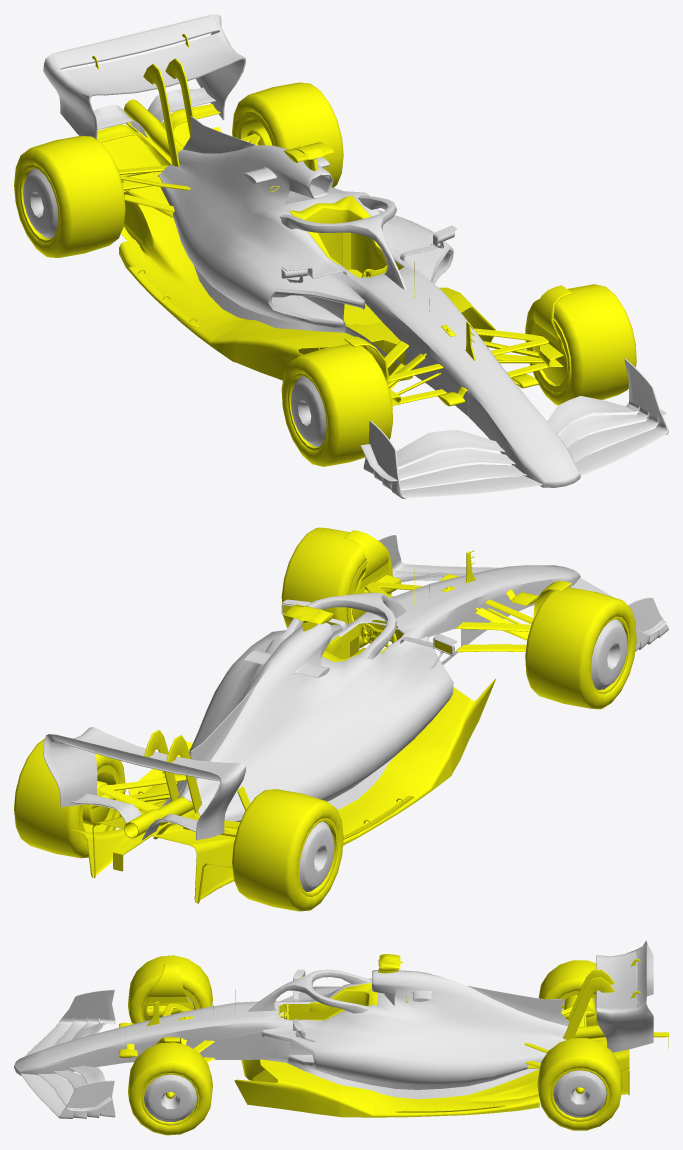
File: F1PS_F1_Car_V11.glb
The picture shows the model from 3 angles, top to bottom: view 1: azimuth 30°, elevation 25°; view 2: azimuth 150°, elevation 25°; view 3: azimuth 270°, elevation 25°; orthographic projection. The views are drawn at different scales.
Visible parts, largest first — view 1: F1PS_F1_Car_Customizable, F1PS_F1_Car_Static; view 2: F1PS_F1_Car_Customizable, F1PS_F1_Car_Static; view 3: F1PS_F1_Car_Customizable, F1PS_F1_Car_Static.
Part boxes in pixels (bbox=[...]): F1PS_F1_Car_Customizable: bbox=[23, 14, 668, 498]; F1PS_F1_Car_Static: bbox=[14, 34, 636, 466]; F1PS_F1_Car_Customizable: bbox=[43, 535, 668, 891]; F1PS_F1_Car_Static: bbox=[14, 527, 636, 911]; F1PS_F1_Car_Customizable: bbox=[14, 940, 653, 1121]; F1PS_F1_Car_Static: bbox=[119, 954, 668, 1135].
Size of the model in its own units: 2.2 by 1.16 by 5.52.
2 materials, 1 textured.
